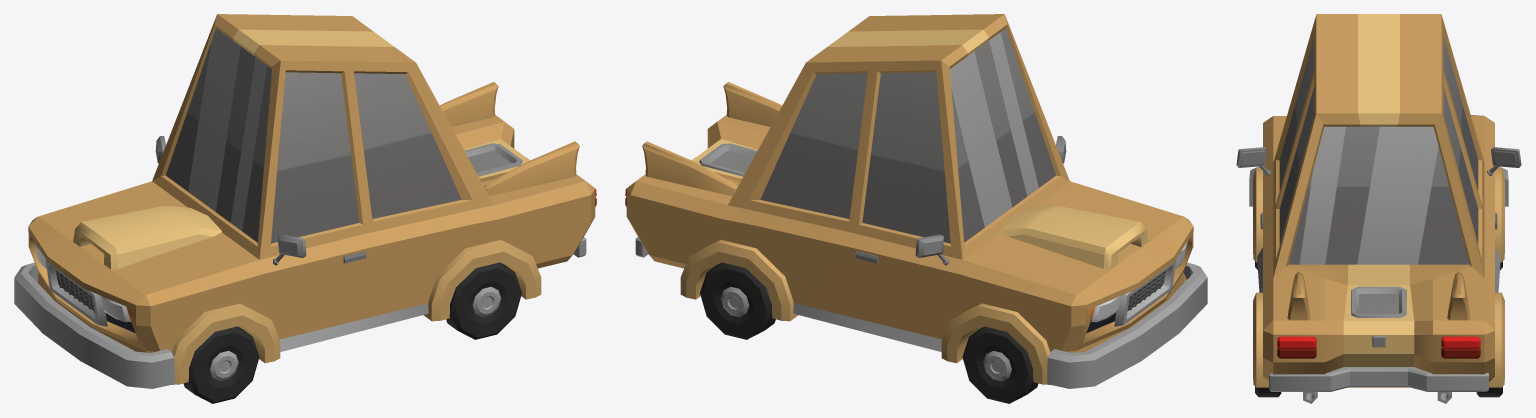
The model's file is Car_11_Q.gltf.
3 views of the same model, side by side, from view 1: azimuth 30°, elevation 25°; view 2: azimuth 150°, elevation 25°; view 3: azimuth 270°, elevation 25° (orthographic).
Parts seen in each view (by area): view 1: Car_11_Q, RL, FL; view 2: Car_11_Q, RR, FR; view 3: Car_11_Q.
Part boxes in pixels (x1=…): Car_11_Q: x1=14, y1=14, x2=596, y2=388; RL: x1=446, y1=262, x2=521, y2=339; FL: x1=183, y1=326, x2=259, y2=403; Car_11_Q: x1=625, y1=14, x2=1207, y2=388; RR: x1=700, y1=262, x2=775, y2=339; FR: x1=962, y1=326, x2=1038, y2=403; Car_11_Q: x1=1236, y1=14, x2=1521, y2=403.
Bounding box in the file's own units: 3.58 × 2.1 × 1.85.
3 materials, 3 textured.
